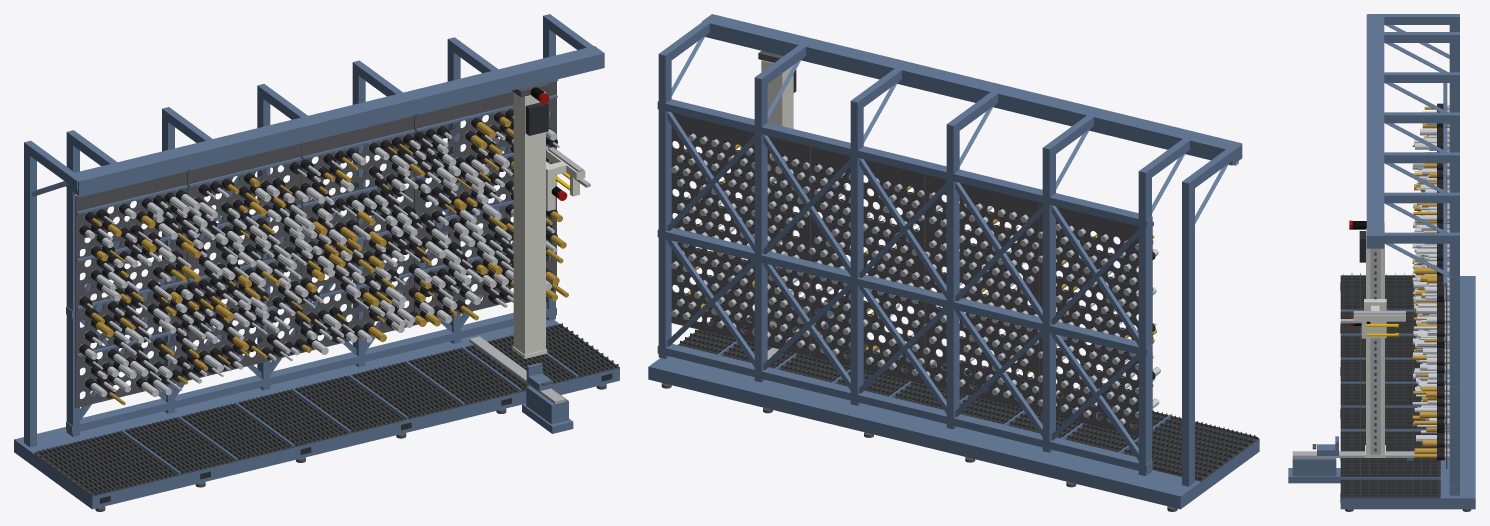
File: tool_wall_magazine_4mod.glb
The picture shows the model from 3 angles, left to right: view 1: azimuth 30°, elevation 25°; view 2: azimuth 150°, elevation 25°; view 3: azimuth 270°, elevation 25°; orthographic projection. The views are drawn at different scales.
Parts seen in each view (by area): view 1: twm_frame__fms_blue, twm_tools__holder, twm_frame__anthracite_lt, twm_base__grating, twm_tools__tool_bright, twm_base__fms_blue, twm_tools__tool_gold, mag_loader__struct_grey, twm_load_station__fms_blue, twm_tools__steel, twm_load_station__steel, mag_loader_z__struct_grey (+1 smaller); view 2: twm_frame__fms_blue, twm_frame__anthracite_lt, twm_base__fms_blue, twm_tools__steel, twm_base__grating, twm_tools__holder, mag_loader__struct_grey, twm_tools__tool_bright; view 3: twm_frame__fms_blue, twm_base__grating, twm_base__fms_blue, twm_tools__tool_bright, twm_tools__tool_gold, twm_tools__holder, mag_loader__struct_grey, mag_loader__steel, twm_load_station__fms_blue, twm_tools__steel, mag_loader_z__struct_grey, twm_load_station__steel (+4 smaller).
Part boxes in pixels (x1,y1,x2,y2): twm_frame__fms_blue: (24,14,604,447); twm_tools__holder: (79,109,557,398); twm_frame__anthracite_lt: (75,81,556,407); twm_base__grating: (34,323,619,496); twm_tools__tool_bright: (85,116,559,397); twm_base__fms_blue: (14,319,619,509); twm_tools__tool_gold: (91,116,568,405); mag_loader__struct_grey: (512,91,547,358); twm_load_station__fms_blue: (486,354,573,433); twm_tools__steel: (79,110,511,383); twm_load_station__steel: (469,336,565,404); mag_loader_z__struct_grey: (546,150,585,210); twm_frame__fms_blue: (657,14,1242,486); twm_frame__anthracite_lt: (671,112,1152,439); twm_base__fms_blue: (648,328,1259,509); twm_tools__steel: (671,133,1138,425); twm_base__grating: (678,315,1259,481); twm_tools__holder: (672,133,1155,425); mag_loader__struct_grey: (761,60,793,326); twm_tools__tool_bright: (687,148,1160,408); twm_frame__fms_blue: (1366,14,1459,495); twm_base__grating: (1340,273,1440,498); twm_base__fms_blue: (1340,276,1475,509); twm_tools__tool_bright: (1412,111,1436,441); twm_tools__tool_gold: (1412,106,1436,457); twm_tools__holder: (1437,103,1444,460); mag_loader__struct_grey: (1365,222,1385,457); mag_loader__steel: (1370,248,1380,455); twm_load_station__fms_blue: (1288,458,1413,483); twm_tools__steel: (1444,105,1449,458); mag_loader_z__struct_grey: (1353,299,1405,337); twm_load_station__steel: (1292,451,1414,457).
Bounding box in the file's own units: 6.04 × 3.54 × 2.15.
